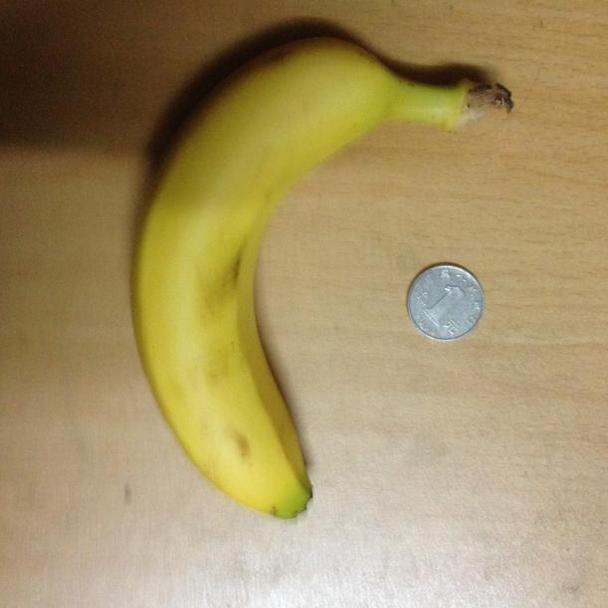banana: (132, 43, 397, 521)
